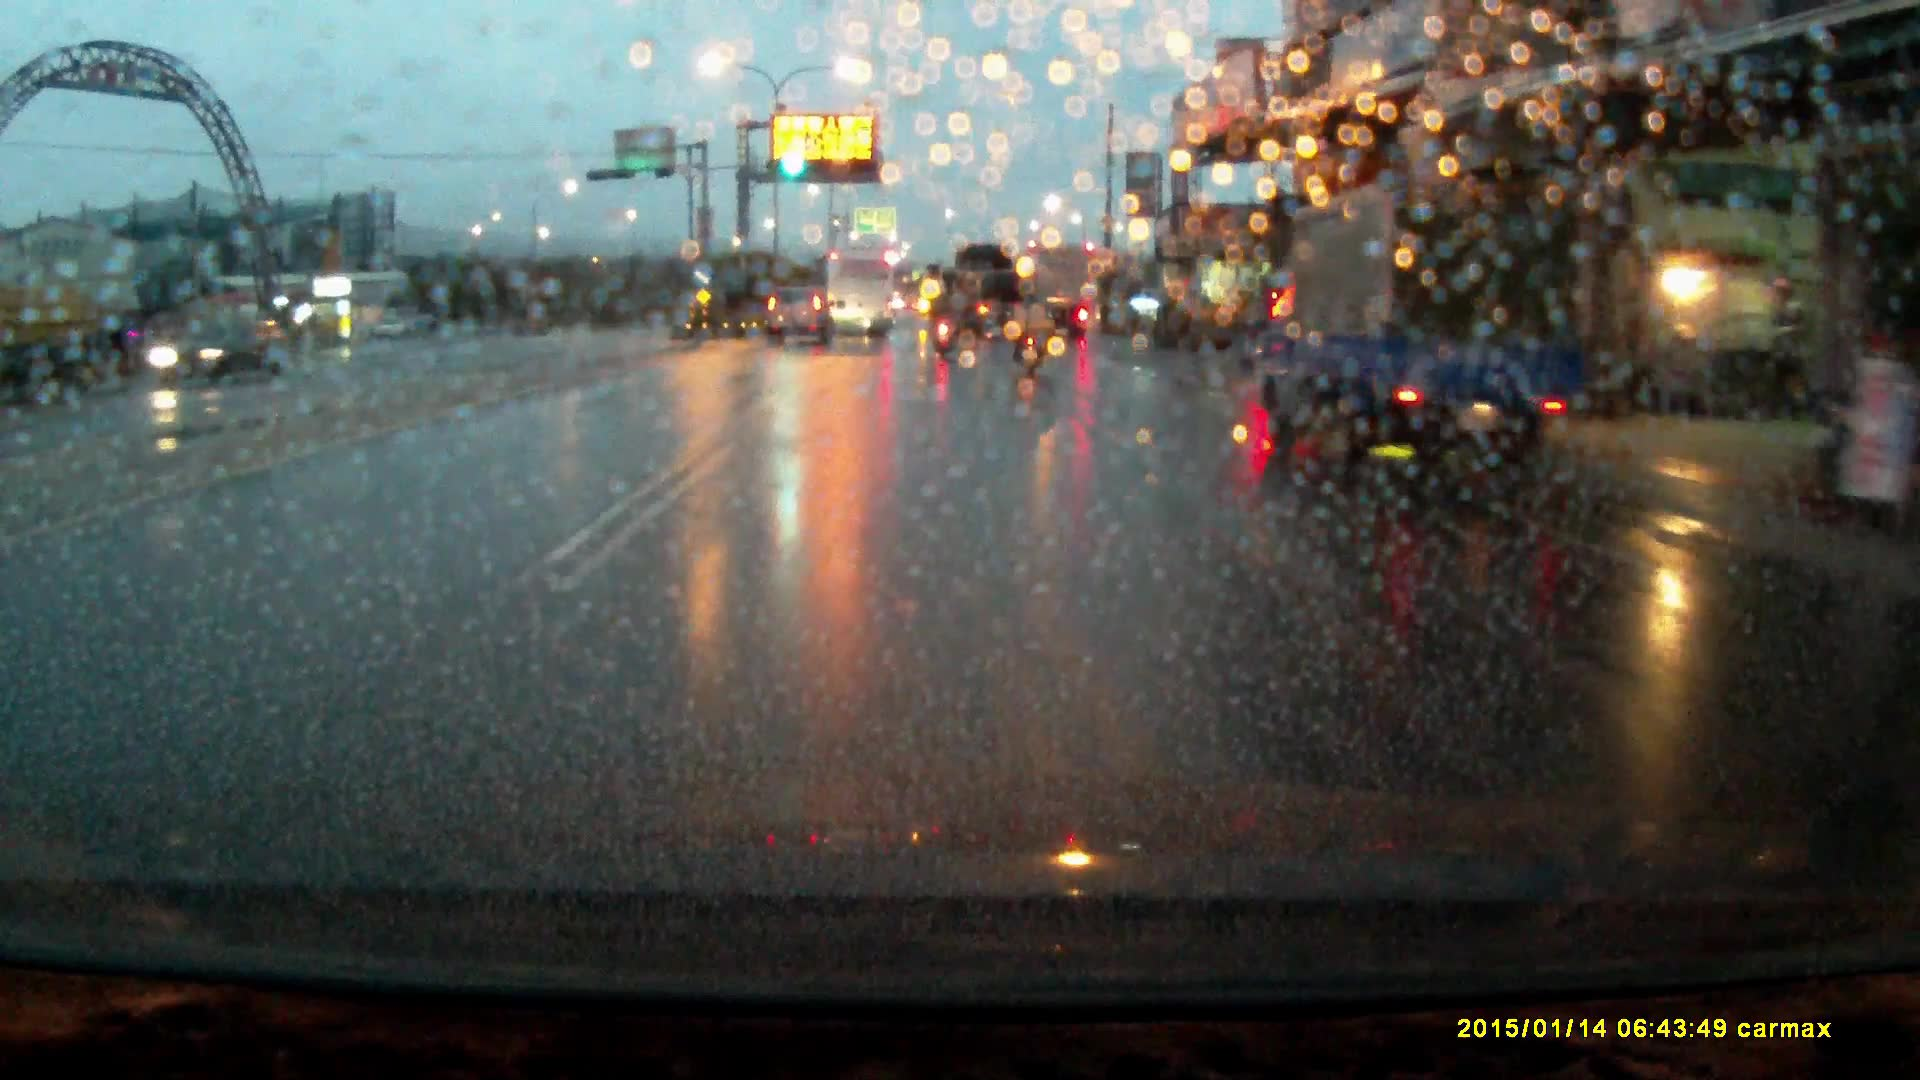rider: (1008, 285, 1052, 380), (930, 287, 958, 358)
vehicle: (1240, 175, 1585, 482), (146, 316, 280, 392), (949, 245, 1021, 338), (824, 249, 896, 333), (1026, 247, 1095, 331), (766, 286, 833, 342)
